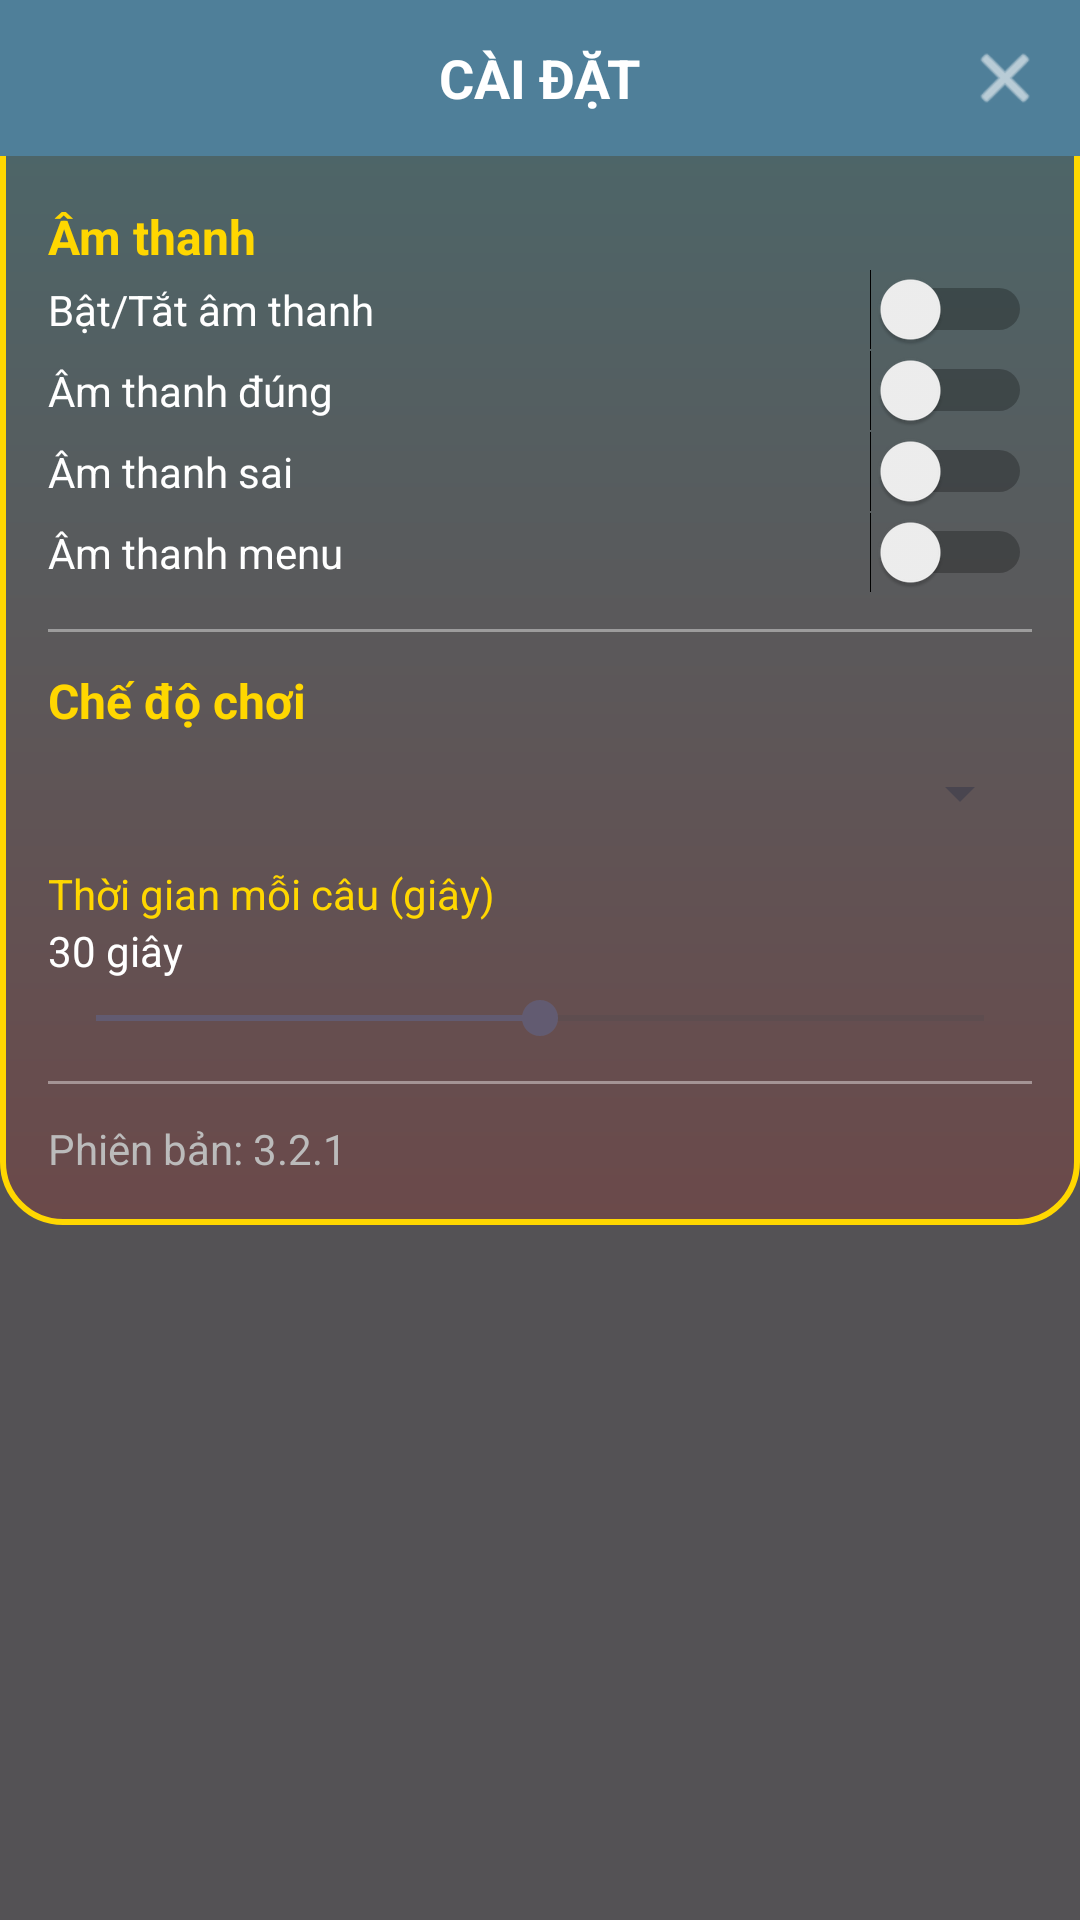

Icon bounding boxes for this 1080×1920 phone screenshot, format (x1, y1, x2, y2):
close clear cancel: (981, 54, 1029, 102)
